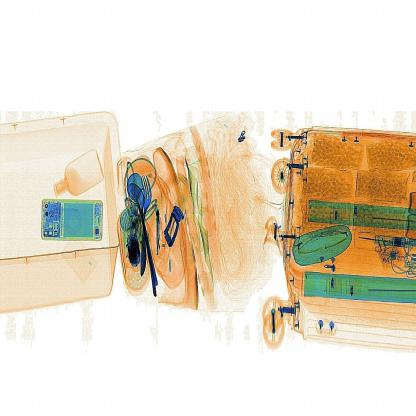knife: (153, 199, 176, 266)
